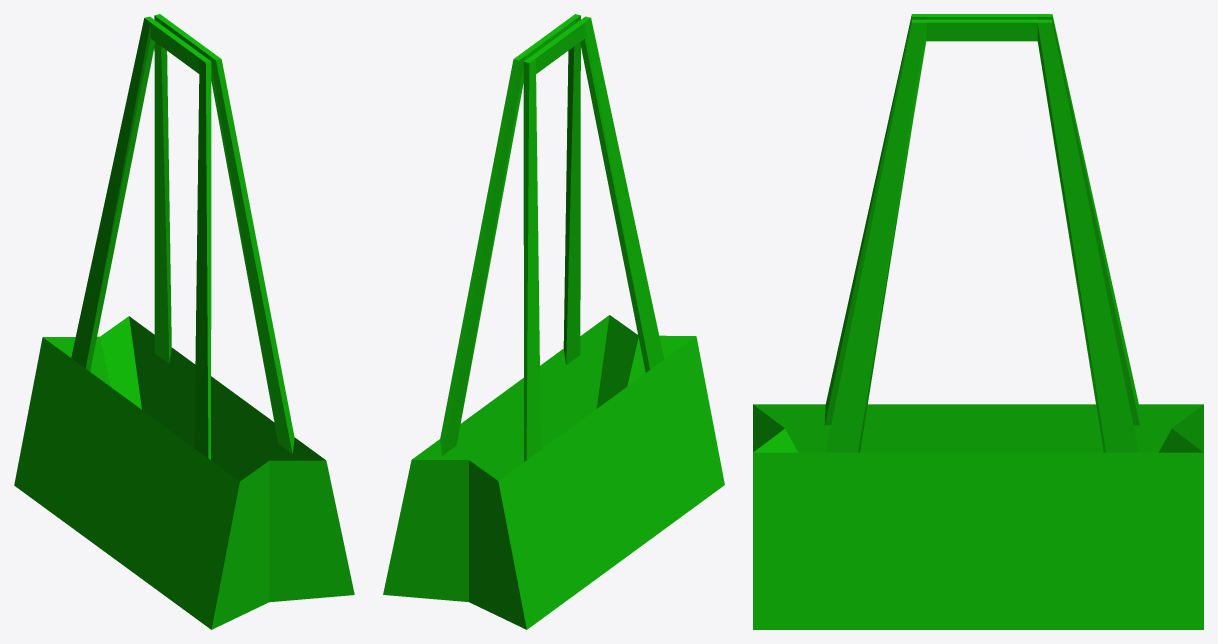
3 views of the same model, side by side, from view 1: azimuth 30°, elevation 25°; view 2: azimuth 150°, elevation 25°; view 3: azimuth 270°, elevation 25° (orthographic). The views are drawn at different scales.
Visible parts, largest first — view 1: Object; view 2: Object; view 3: Object.
Boxes of the visible parts, x1,y1,x2,y2 form: Object: [14, 14, 354, 629]; Object: [383, 14, 724, 629]; Object: [753, 14, 1203, 629].
Size of the model in its own units: 16.52 by 55.13 by 39.39.
